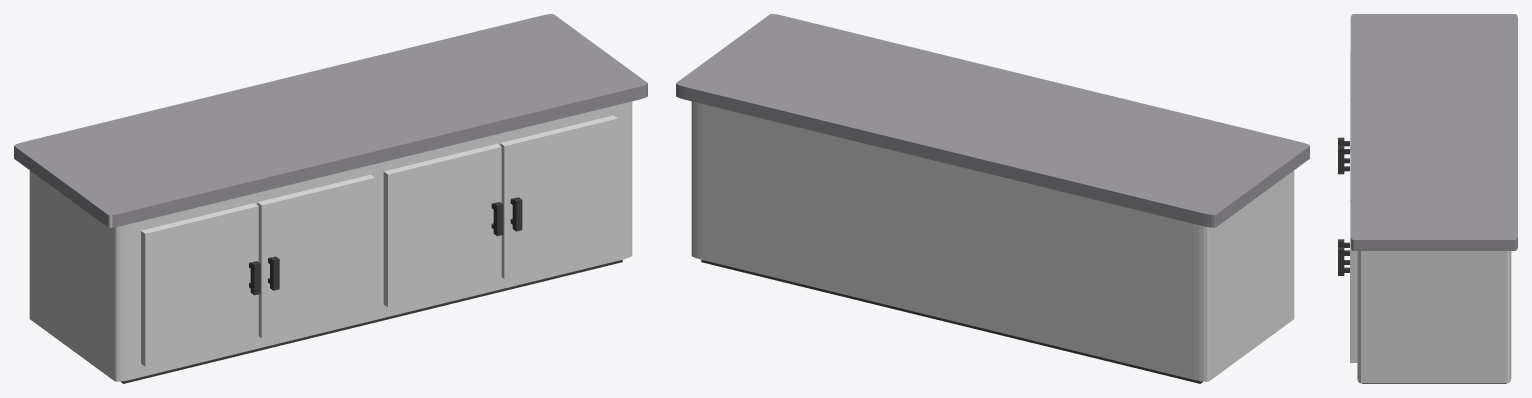
The model's file is meja lemari.fbx.
The picture shows the model from 3 angles, left to right: view 1: azimuth 30°, elevation 25°; view 2: azimuth 150°, elevation 25°; view 3: azimuth 270°, elevation 25°; orthographic projection. The views are drawn at different scales.
Parts seen in each view (by area): view 1: Cube, Cube.003, Cube.001, Cube.002, Cube.004; view 2: Cube; view 3: Cube, Cube.004, Cube.006, Cube.008.
Part boxes in pixels (x1=…): Cube: x1=14, y1=14, x2=647, y2=383; Cube.003: x1=383, y1=144, x2=501, y2=307; Cube.001: x1=141, y1=203, x2=258, y2=366; Cube.002: x1=257, y1=174, x2=375, y2=338; Cube.004: x1=500, y1=115, x2=617, y2=279; Cube: x1=676, y1=14, x2=1309, y2=383; Cube: x1=1350, y1=14, x2=1517, y2=383; Cube.004: x1=1350, y1=201, x2=1357, y2=362; Cube.006: x1=1338, y1=145, x2=1349, y2=174; Cube.008: x1=1338, y1=247, x2=1349, y2=275.
Bounding box in the file's own units: 849 × 267 × 286.
Materials: 1 (1 with a texture image).
